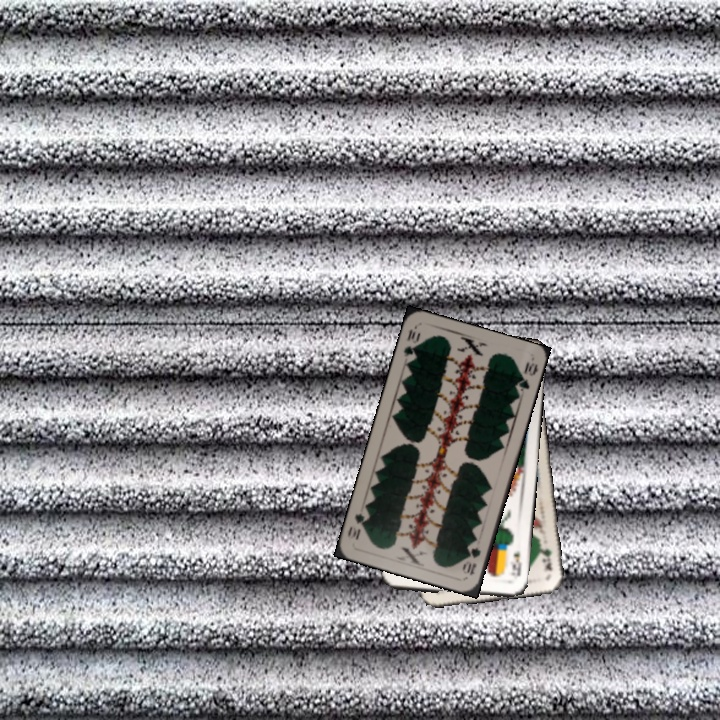EK: (507, 547, 524, 583)
G10: (399, 325, 423, 365), (463, 543, 483, 578)
GK: (536, 538, 555, 573)
